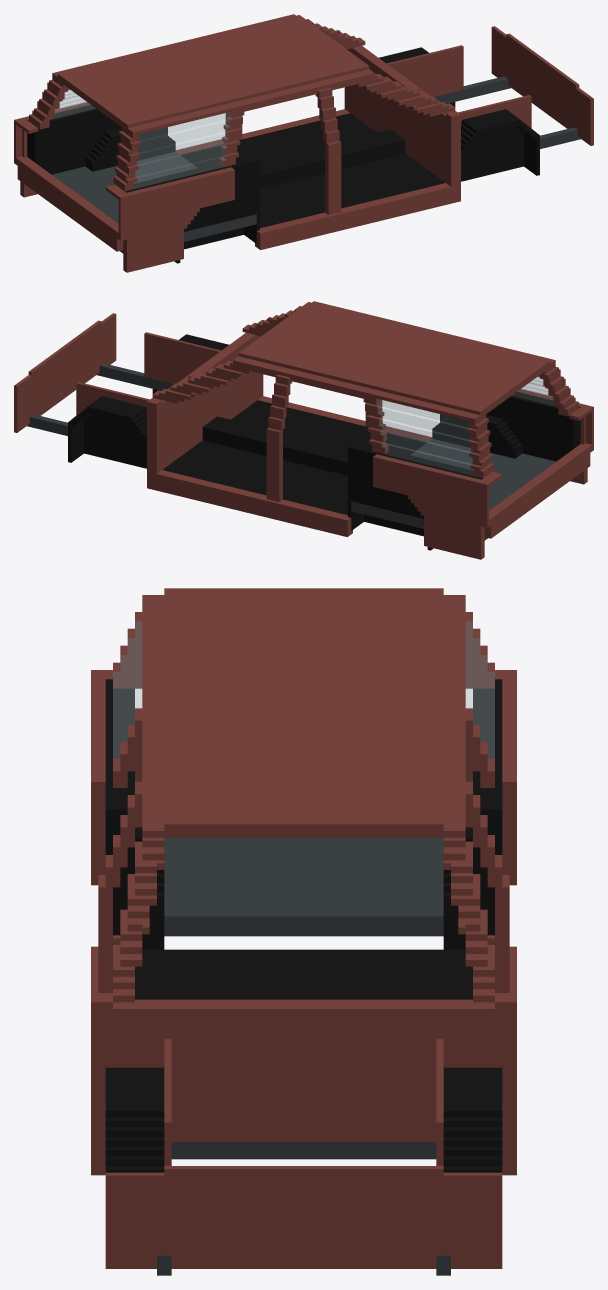
Rendered from estate_shell.glb.
3 renders of one model, top to bottom at view 1: azimuth 30°, elevation 25°; view 2: azimuth 150°, elevation 25°; view 3: azimuth 270°, elevation 25°, orthographic. The views are drawn at different scales.
Visible parts, largest first — view 1: body:compound; view 2: body:compound; view 3: body:compound.
Boxes of the visible parts, x1=… form: body:compound: x1=14, y1=14, x2=593, y2=272; body:compound: x1=14, y1=301, x2=593, y2=559; body:compound: x1=91, y1=588, x2=516, y2=1275.
Size of the model in its own units: 4.69 by 1.31 by 1.81.
